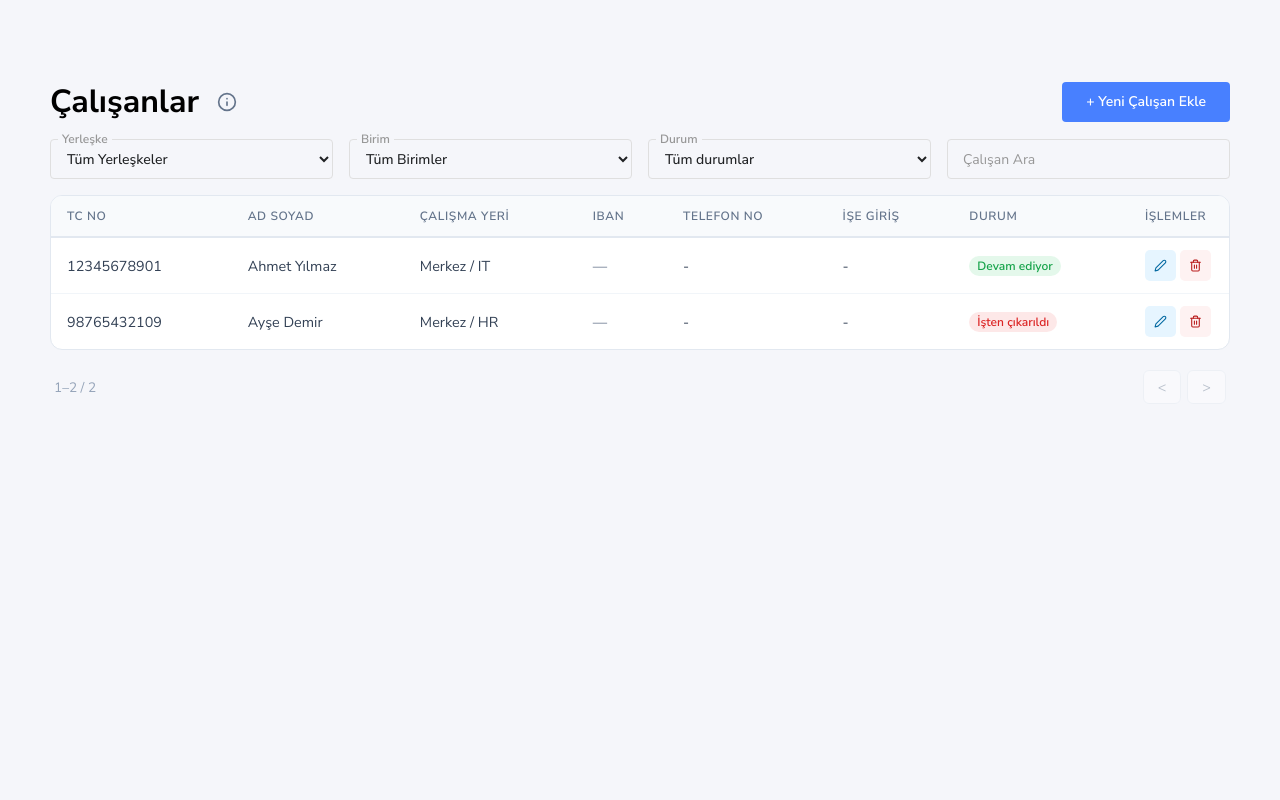
Scenario: EmployeesPage (Personel Yönetimi) › silme API hatası verince hata toast göstermeli
The image size is (1280, 800).
Click the 1st button with class "delete-btn". click: (1196, 266)
box: [1180, 250, 1211, 281]
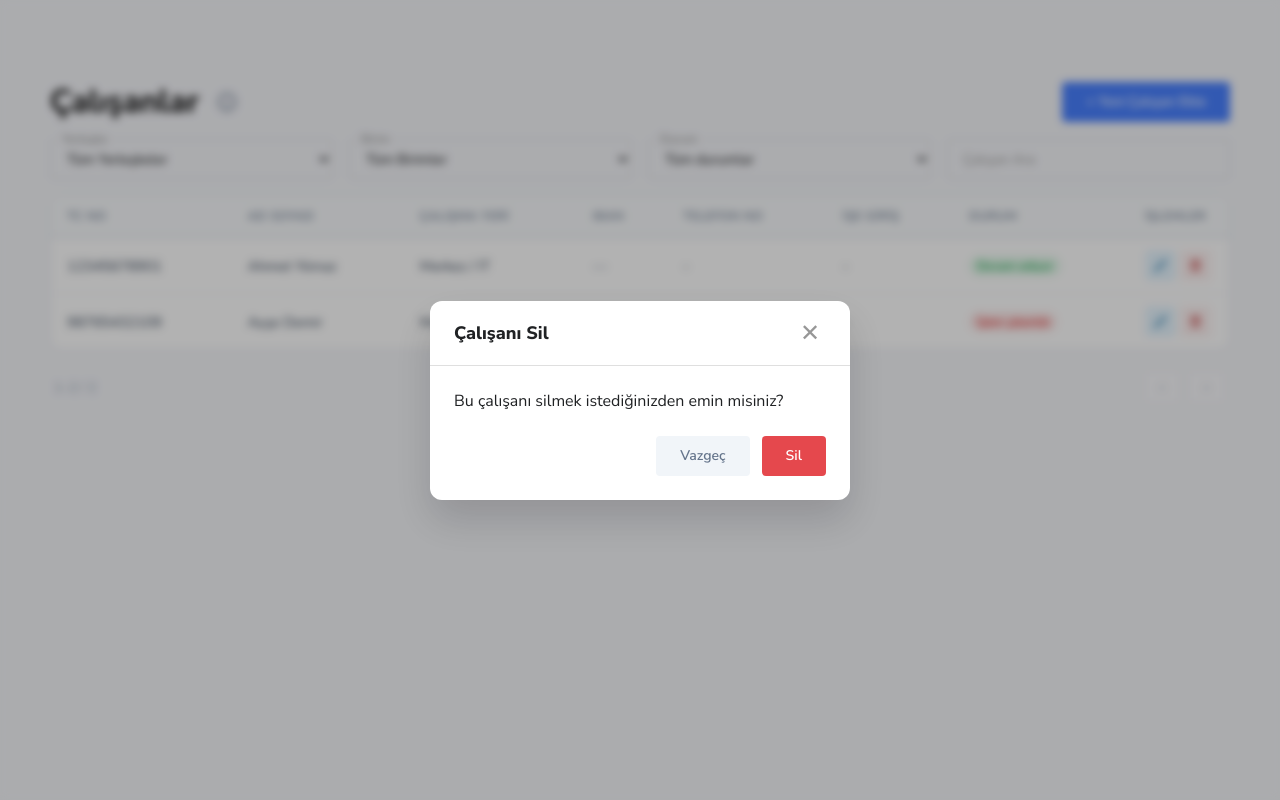
Click the button "Sil". click: (794, 456)
box: [762, 436, 826, 476]
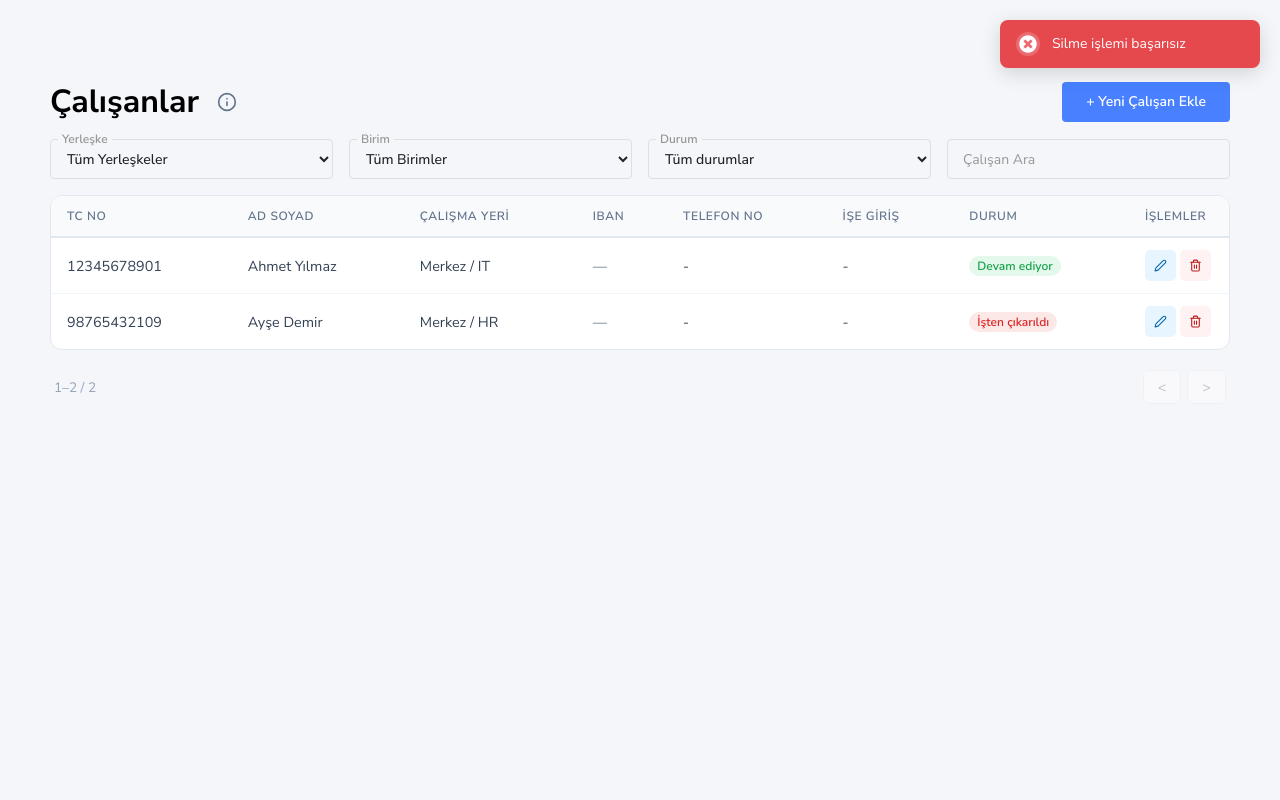
Expected: the text "Silme işlemi başarısız" is shown, [1052, 34, 1186, 53]
